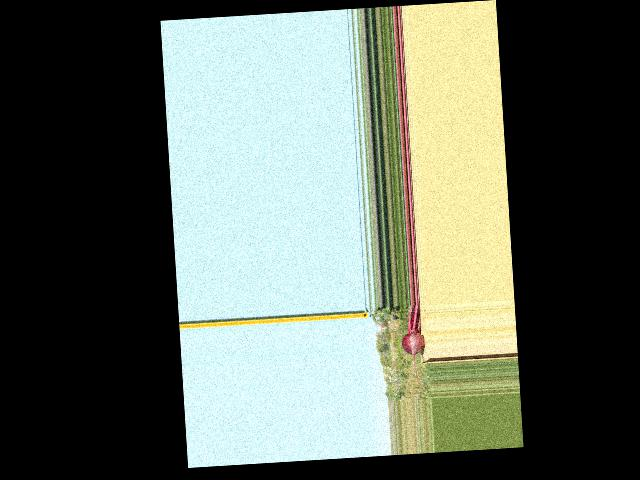beet: (400, 303, 428, 397)
